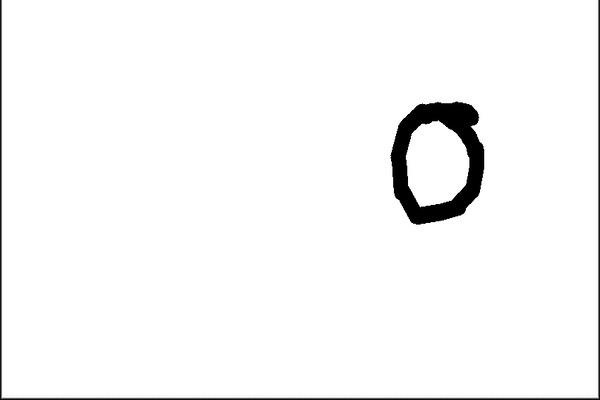O: (365, 81, 497, 234)
